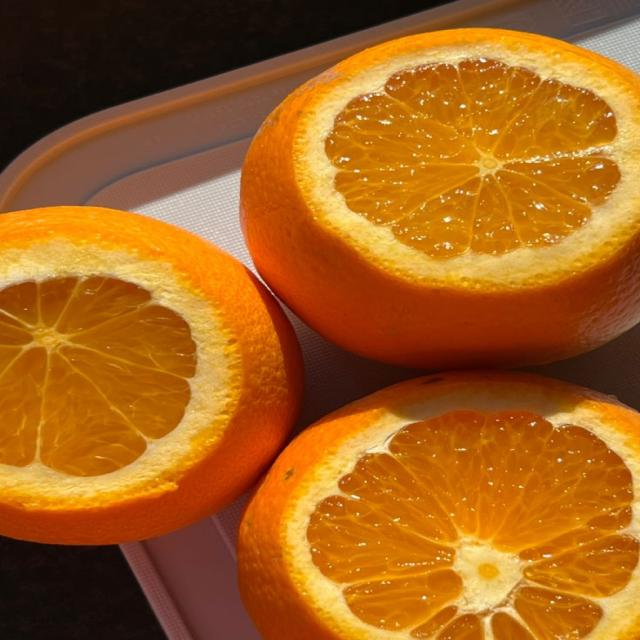orange: (241, 29, 639, 368), (238, 372, 639, 639), (0, 207, 301, 544)
